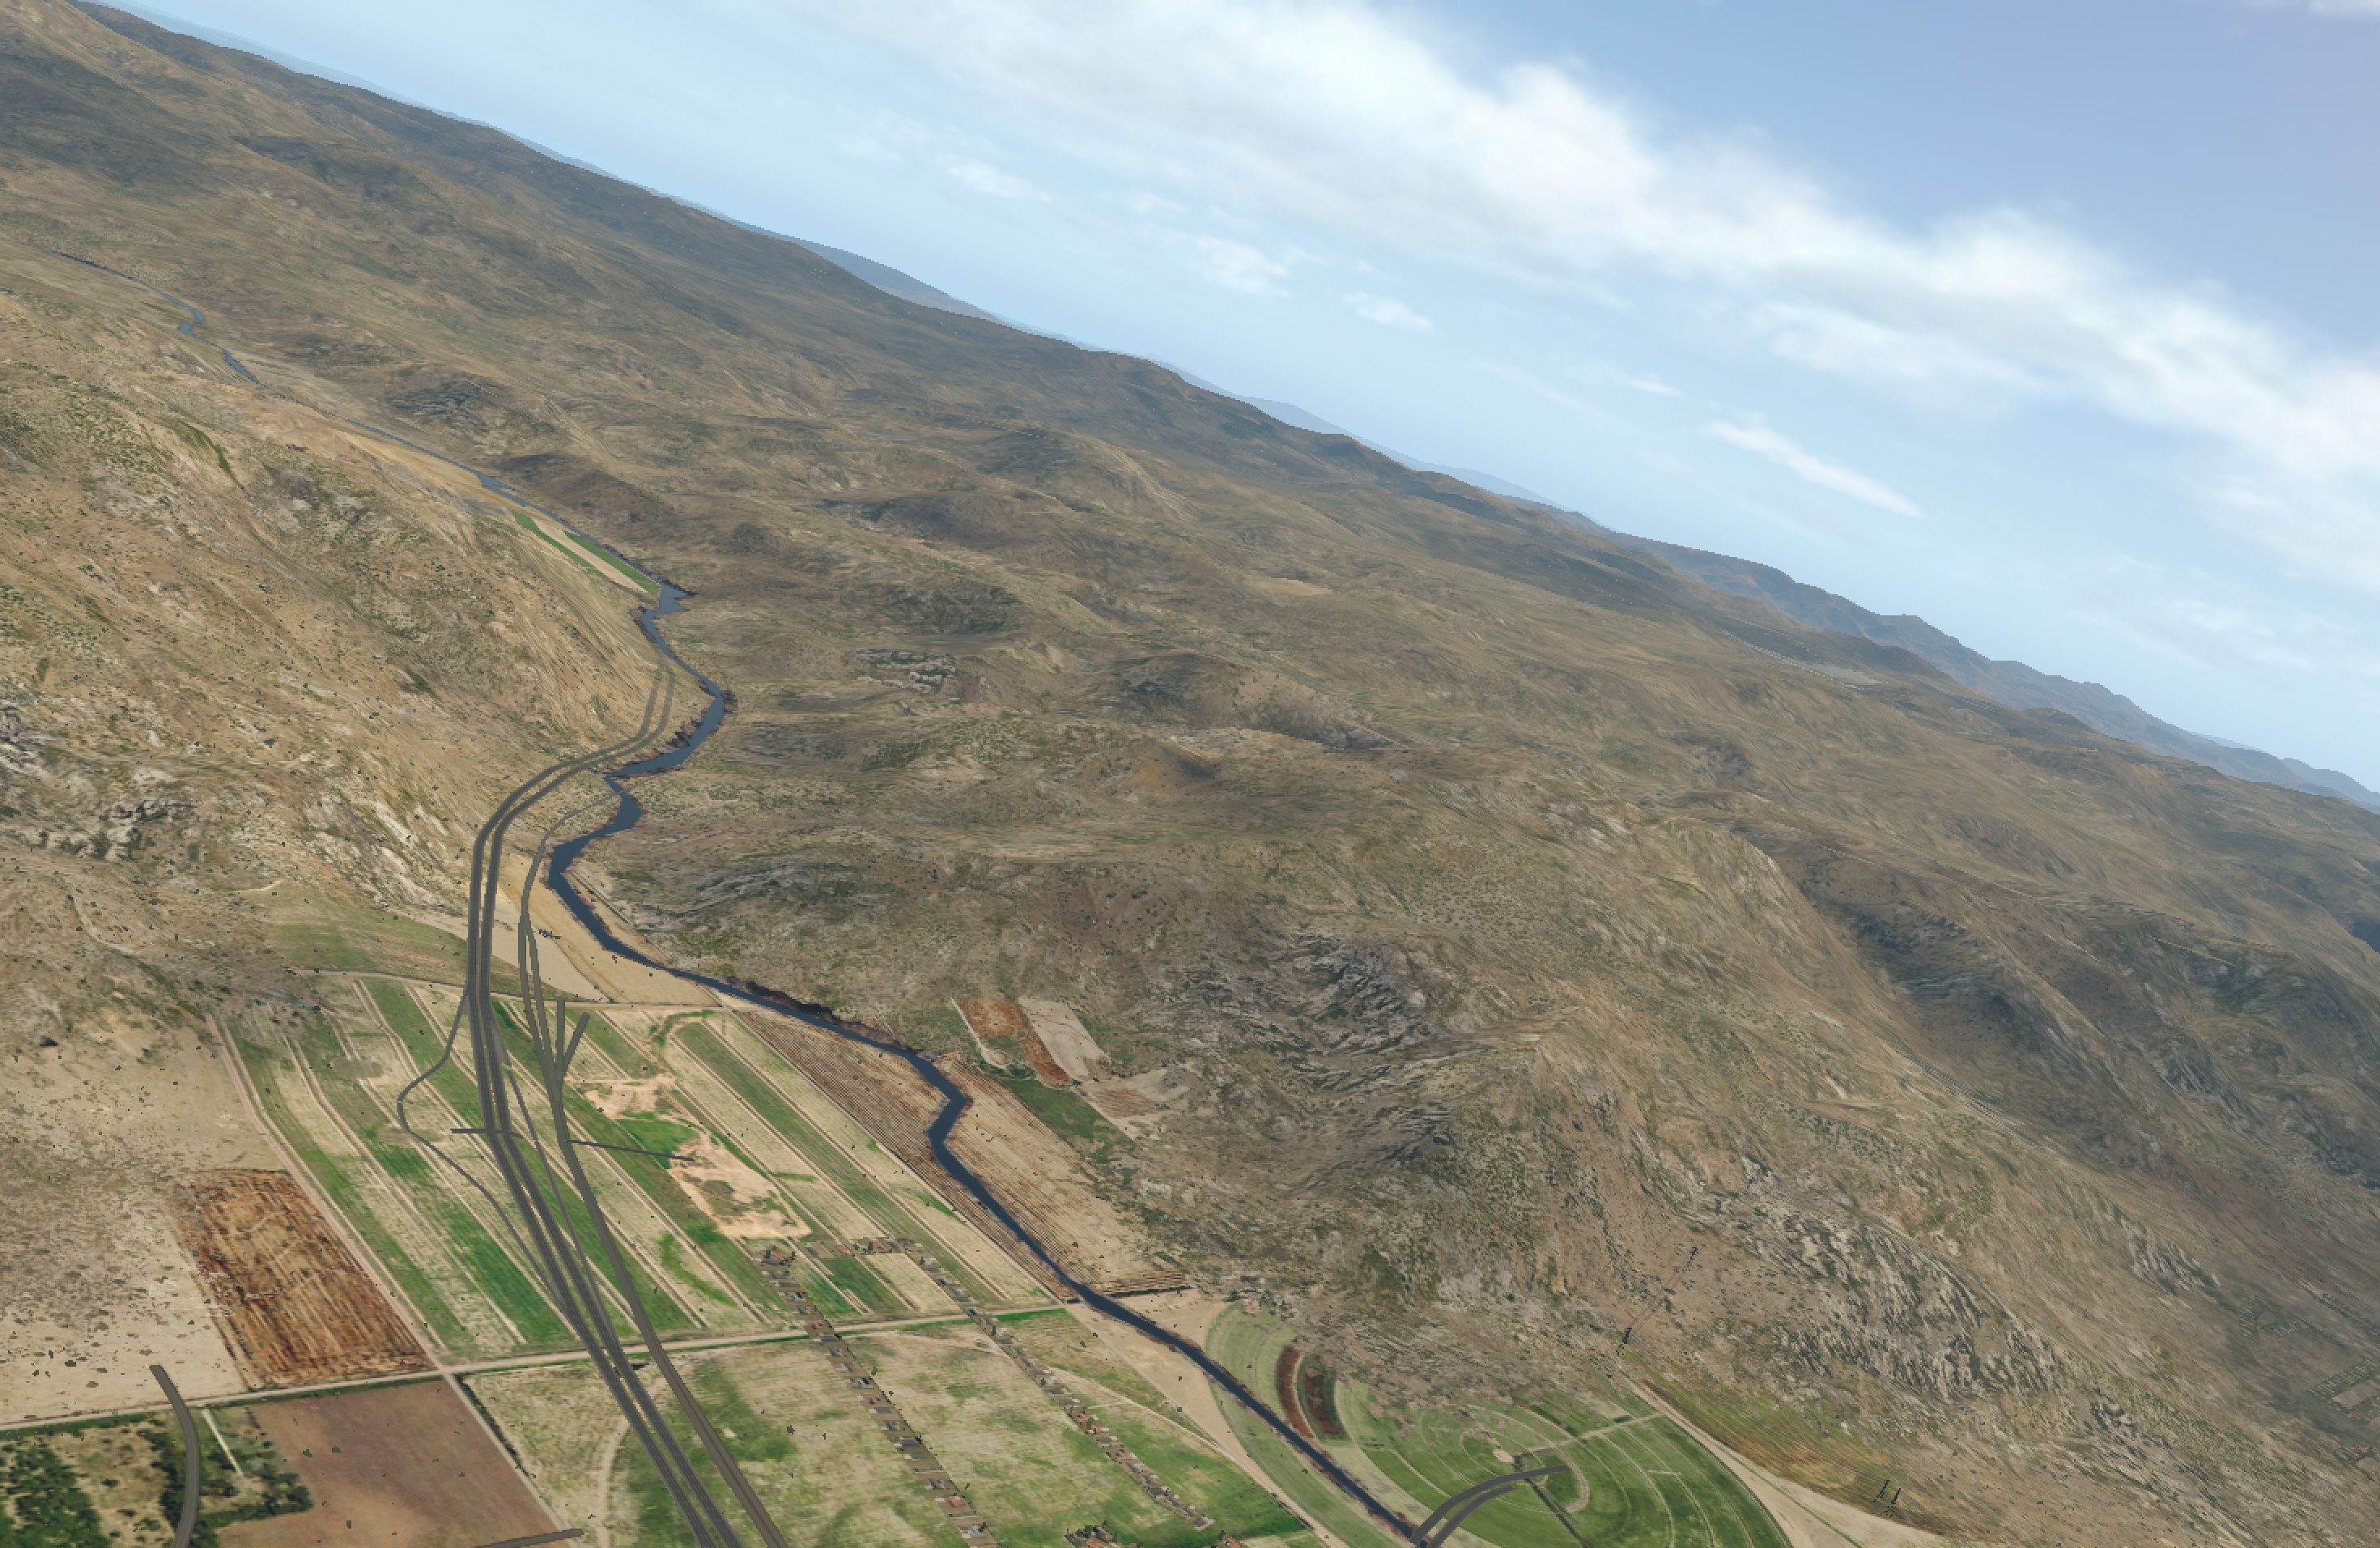aircraft: (534, 928, 557, 937)
